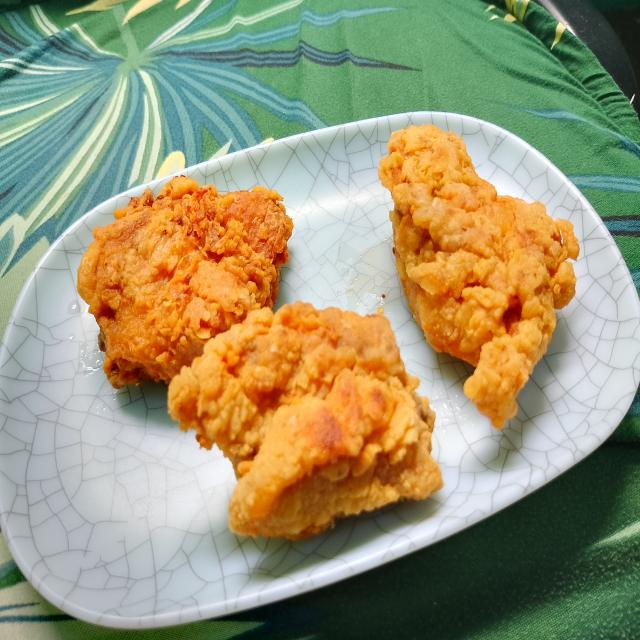Chicken -Fried Chicken-: (163, 297, 446, 555), (372, 123, 587, 436), (69, 171, 296, 396)
